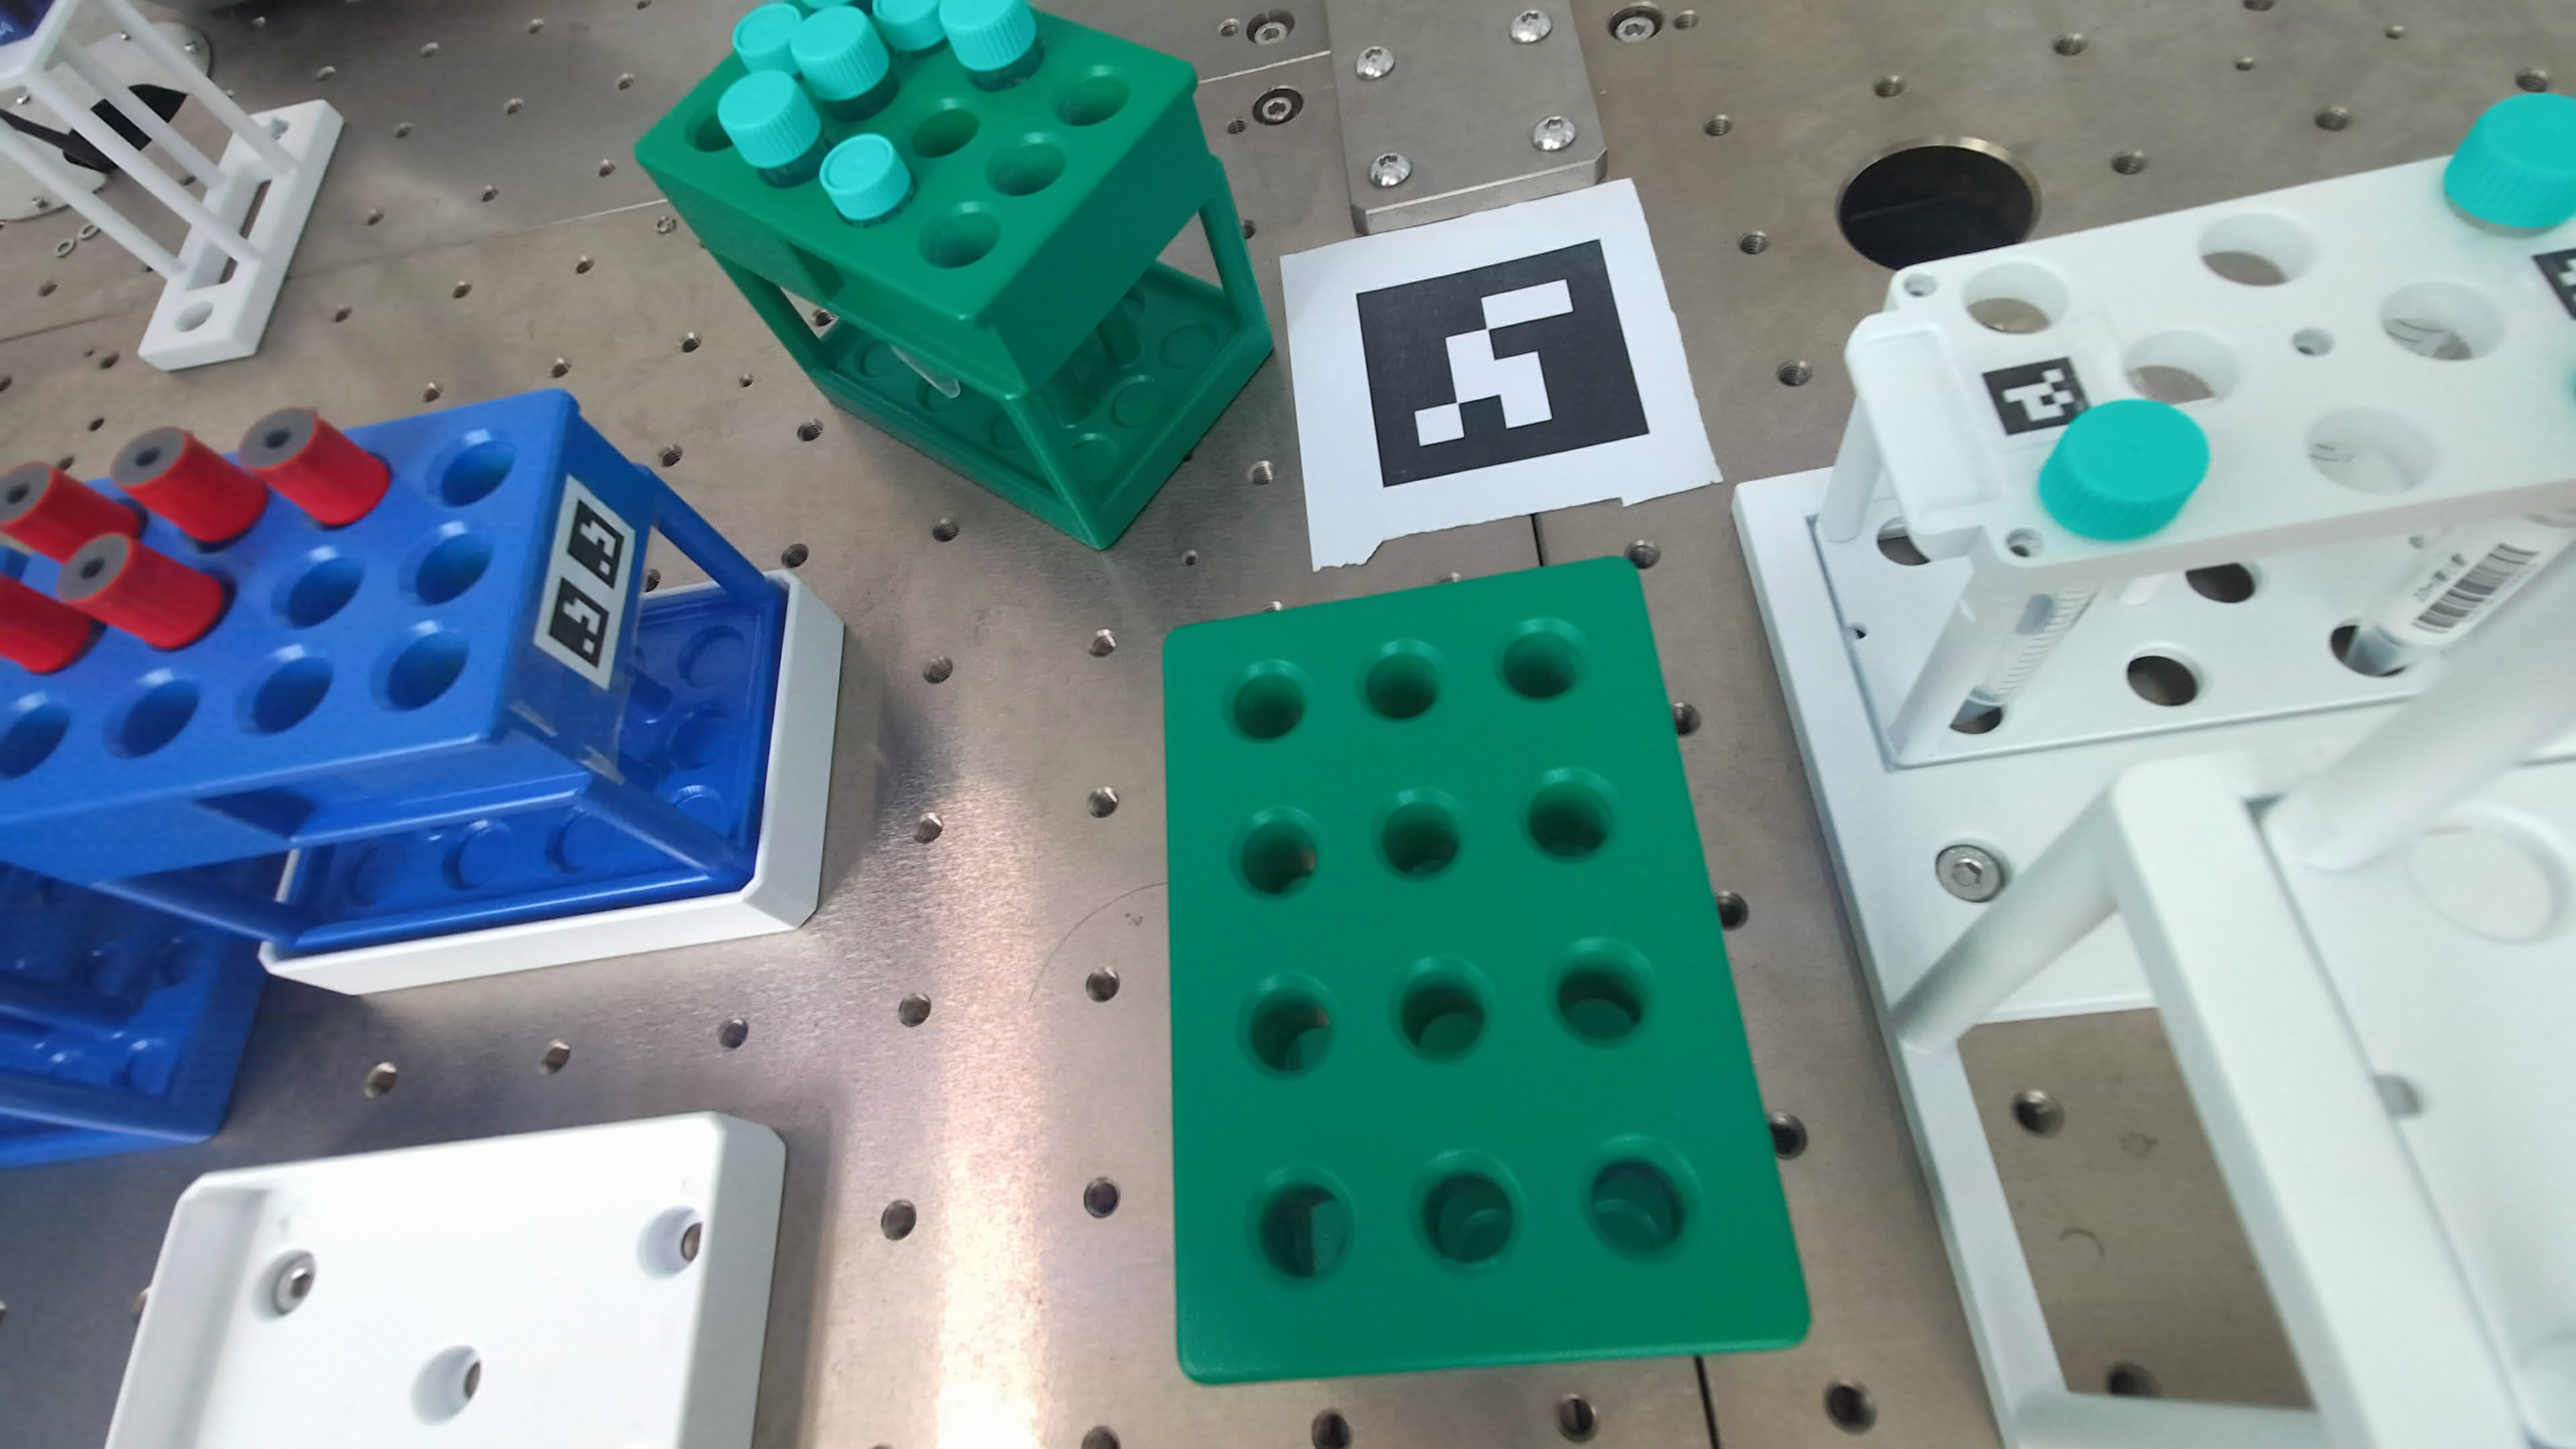10ML_centrifuge_tube: (2335, 511, 2576, 676), (2038, 400, 2210, 541), (1953, 589, 2097, 734), (2443, 94, 2576, 230), (718, 71, 821, 168), (789, 5, 890, 103), (938, 0, 1037, 73)
10ML_sorting_tube_rack: (0, 391, 784, 957), (0, 863, 264, 1166)
5ML_centrifuge_tube: (819, 133, 911, 225), (732, 0, 801, 74), (872, 0, 945, 53)
5ML_sorting_tube_rack: (1166, 563, 1808, 1384), (637, 14, 1272, 547)
blood_tube: (58, 533, 225, 649), (111, 428, 267, 543), (241, 409, 391, 527), (0, 462, 142, 563), (0, 575, 92, 672)
dispensing_tube_rack: (1736, 161, 2576, 1445)
sorting_tube_rack_base: (260, 577, 844, 994), (108, 1113, 786, 1447)
